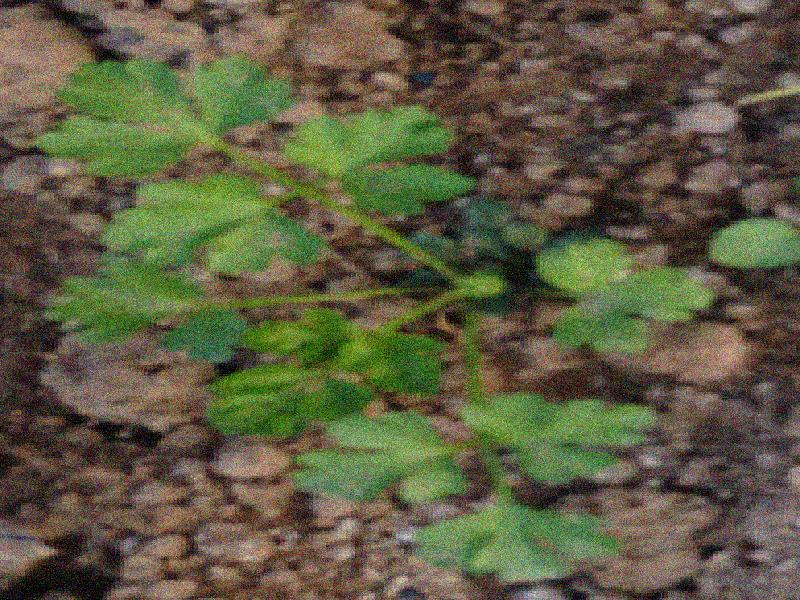radish: (117, 92, 800, 558)
